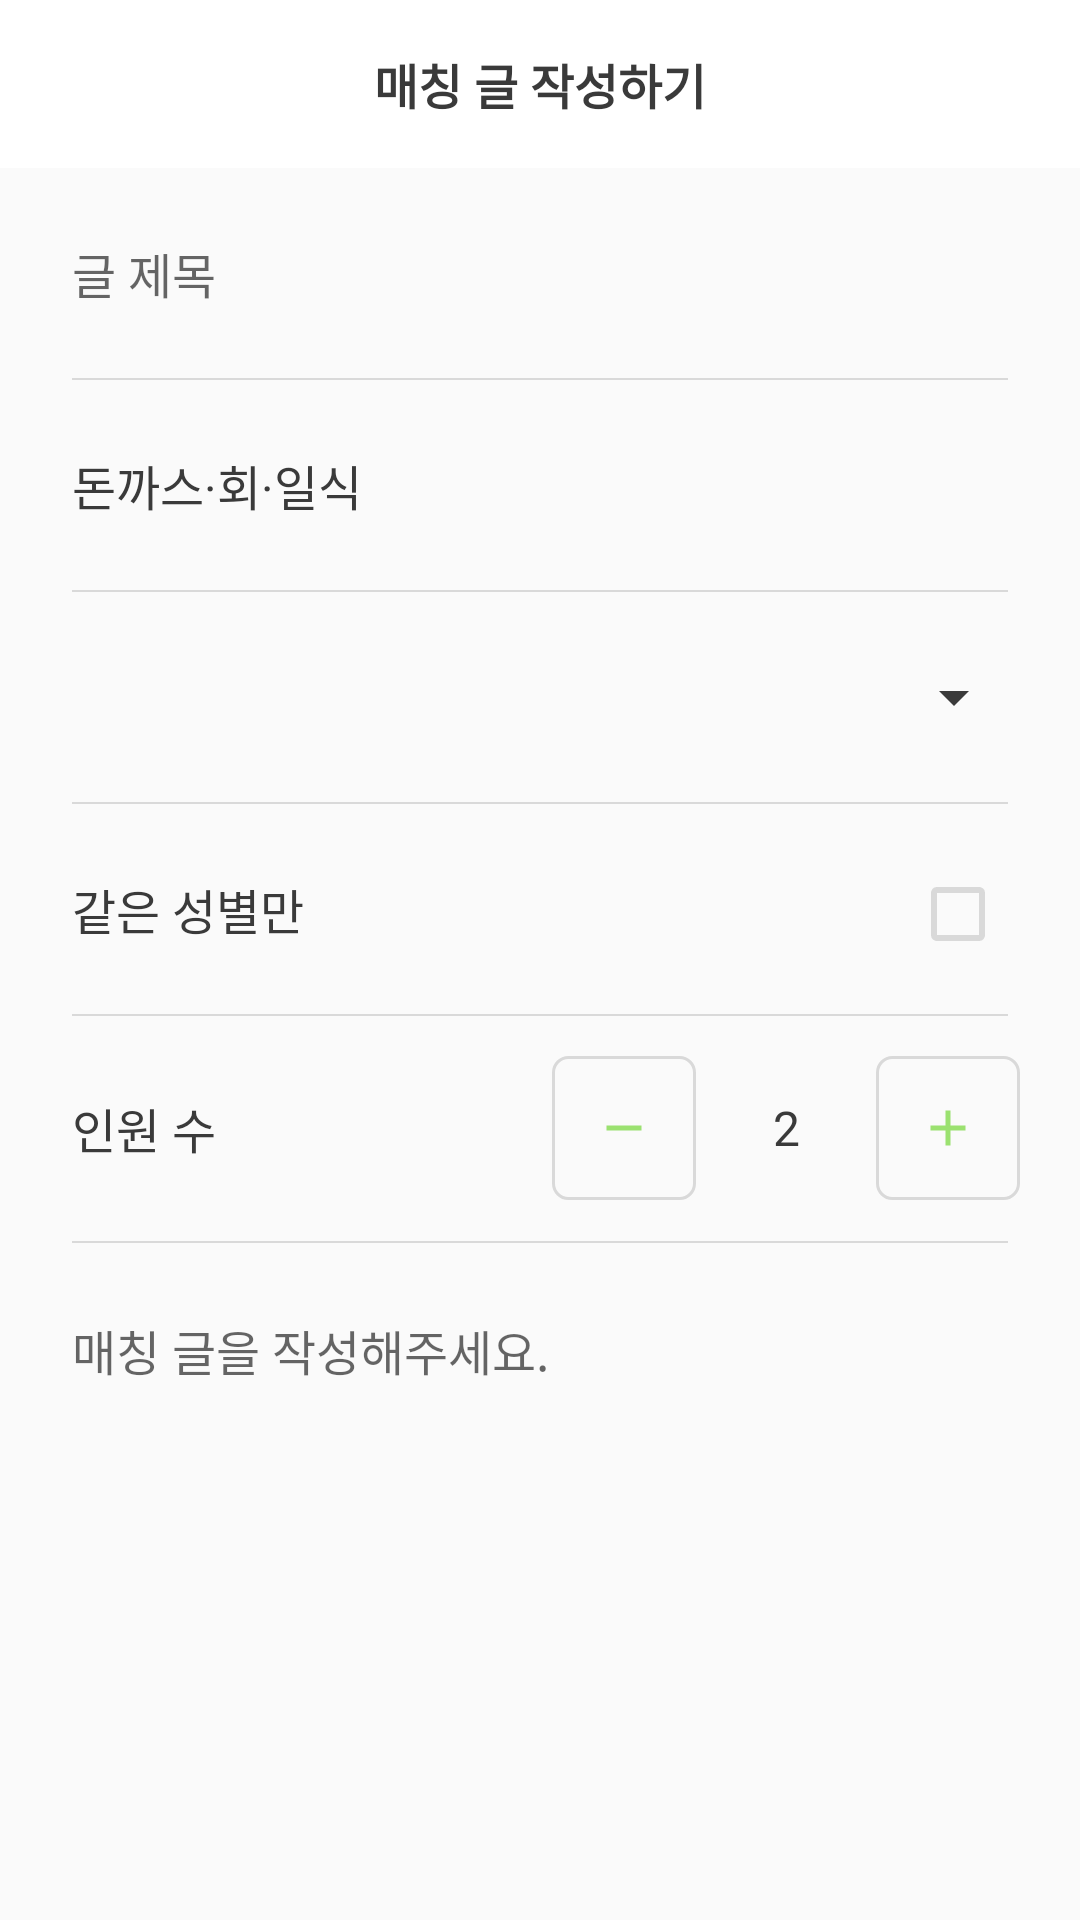

Screen size 1080 x 1920. Icon name, then its box in pixels as region(x1, y1, x2, y2):
minus: region(552, 1056, 696, 1200)
plus: region(876, 1056, 1020, 1200)
